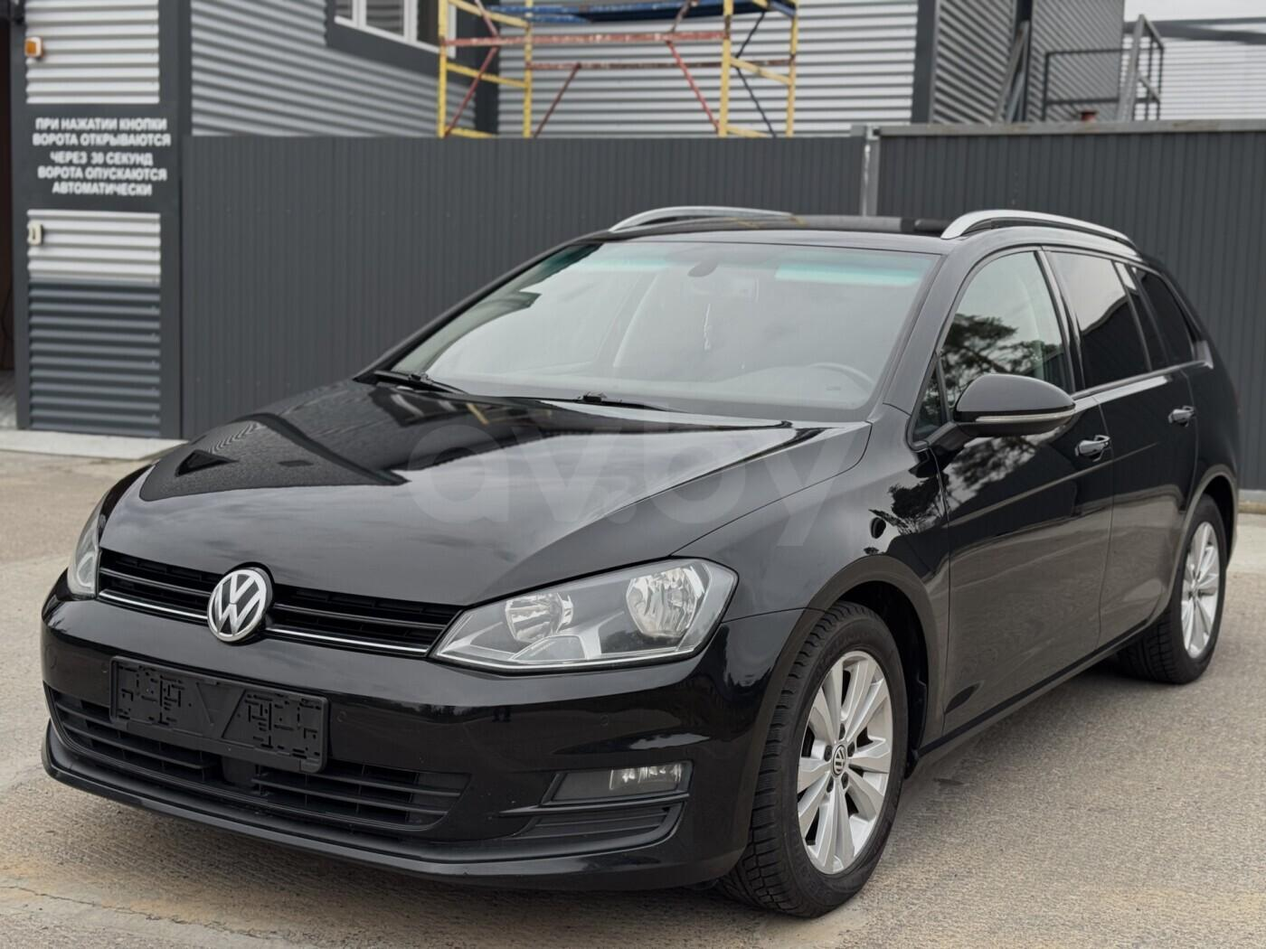Golf_2012-2017: (27, 210, 1244, 909)
